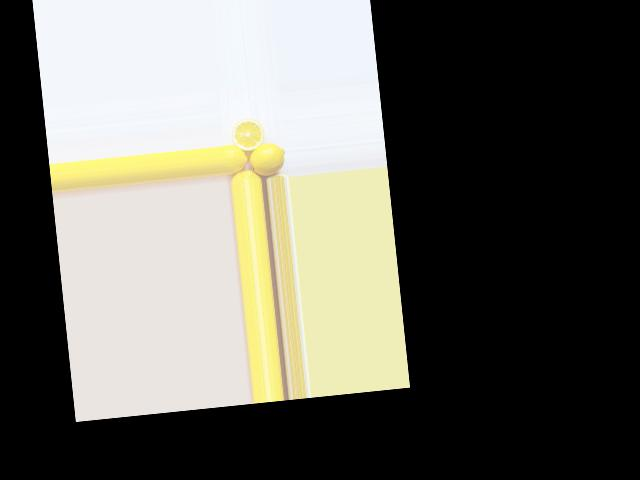lemon: (223, 143, 248, 172)
